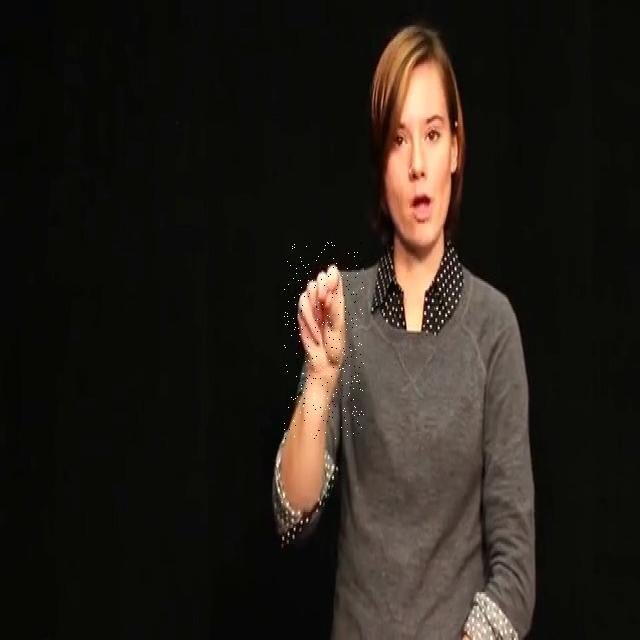no: (284, 242, 364, 439)
